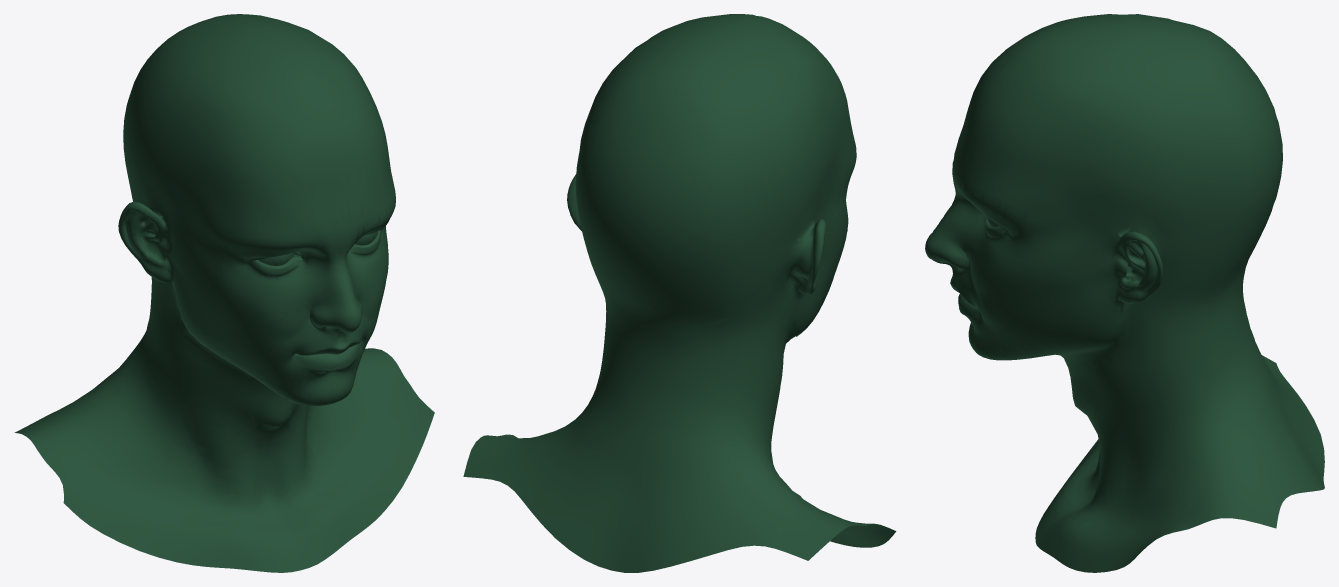
File: human_face.glb
The picture shows the model from 3 angles, left to right: view 1: azimuth 30°, elevation 25°; view 2: azimuth 150°, elevation 25°; view 3: azimuth 270°, elevation 25°; orthographic projection. The views are drawn at different scales.
Visible parts, largest first — view 1: RealHumanFaceModel; view 2: RealHumanFaceModel; view 3: RealHumanFaceModel.
Boxes of the visible parts, <box> form: RealHumanFaceModel: <box>14,14,434,572</box>; RealHumanFaceModel: <box>463,14,896,572</box>; RealHumanFaceModel: <box>925,14,1324,572</box>.
Size of the model in its own units: 0.3835 by 0.5 by 0.3536.
